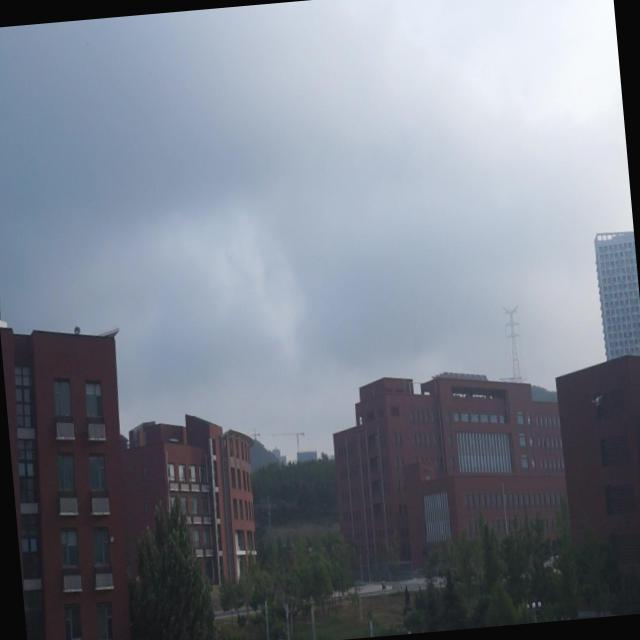drone: (588, 392, 604, 409)
